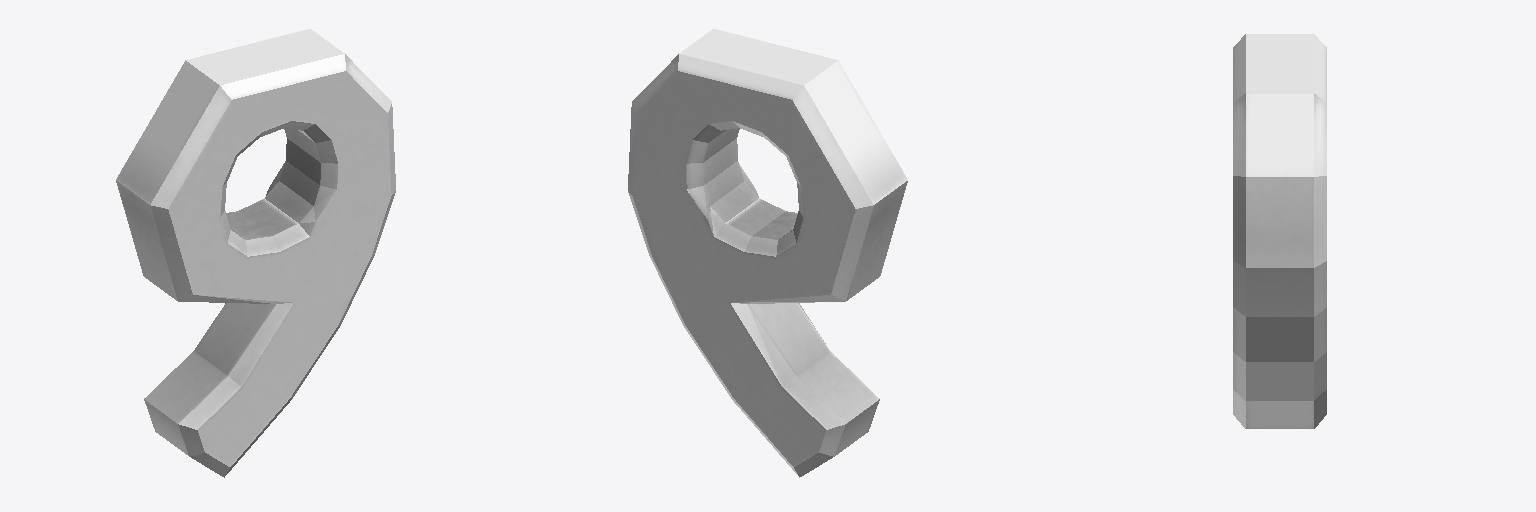
The picture shows the model from 3 angles: view 1: azimuth 30°, elevation 25°; view 2: azimuth 150°, elevation 25°; view 3: azimuth 270°, elevation 25°; orthographic projection.
Parts seen in each view (by area): view 1: Number_9; view 2: Number_9; view 3: Number_9.
Part boxes in pixels (left/top/right/bottom): Number_9: left=116, top=29, right=395, bottom=477; Number_9: left=628, top=29, right=907, bottom=477; Number_9: left=1233, top=34, right=1326, bottom=428.
Bounding box in the file's own units: 17.89 × 27.43 × 5.91.
1 materials, 1 textured.